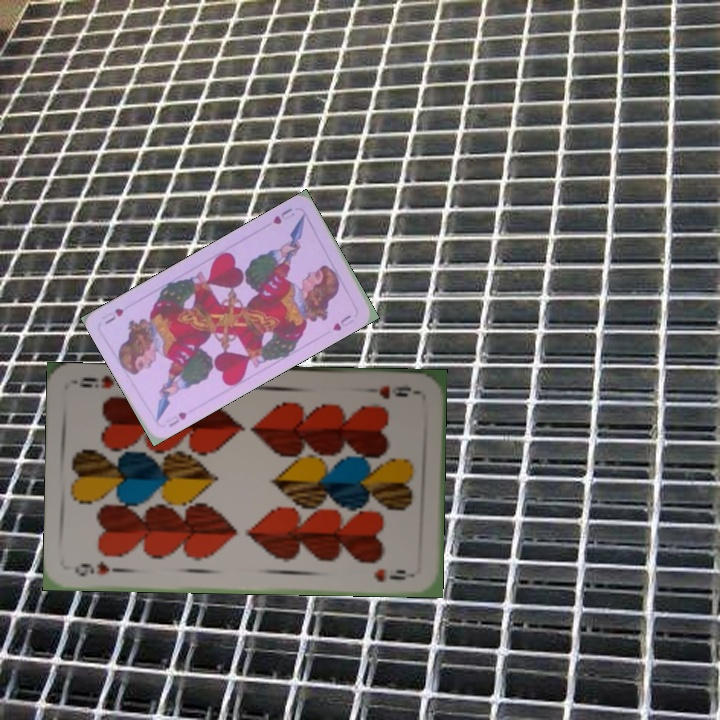H9: (71, 557, 127, 580), (375, 379, 420, 401)
HU: (269, 204, 297, 227), (162, 408, 190, 430)
